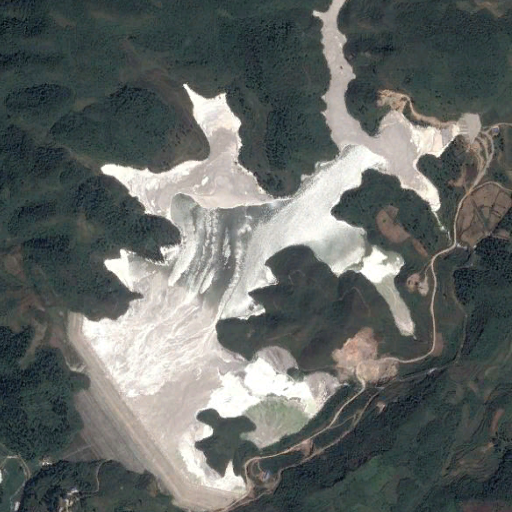tp: (62, 5, 484, 494)
